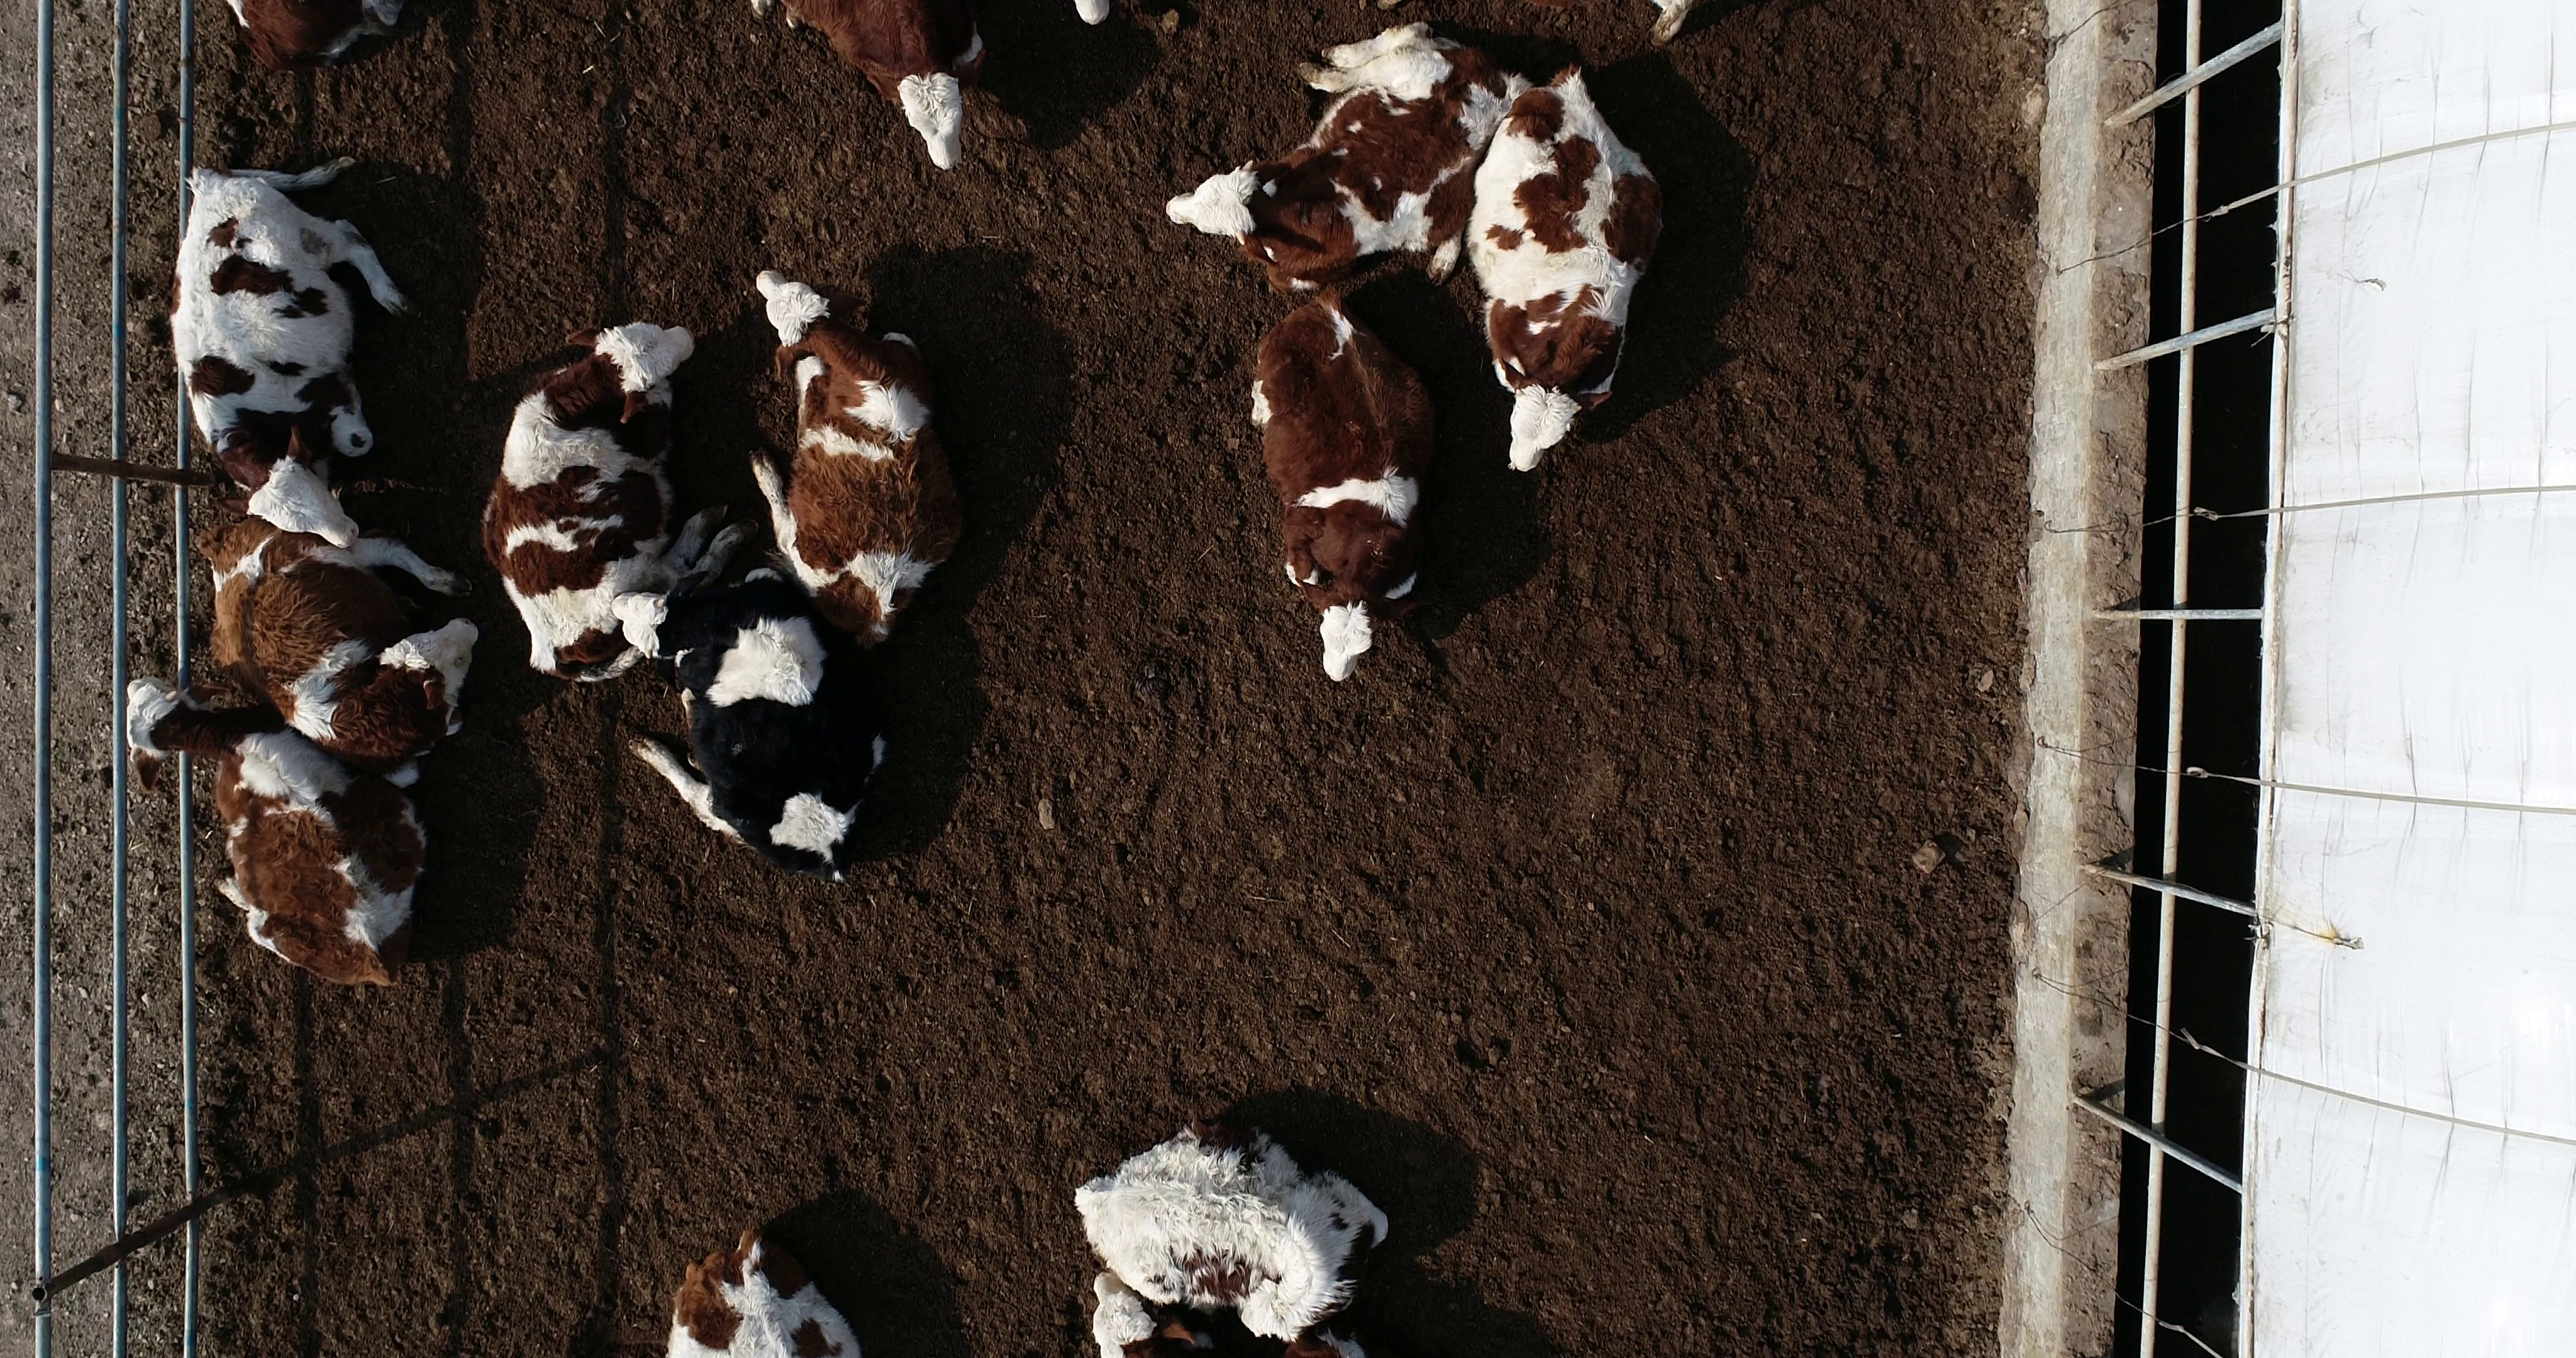cattle: (470, 305, 765, 687), (160, 148, 429, 542), (738, 259, 976, 653), (1467, 55, 1676, 479), (1237, 279, 1453, 690)
